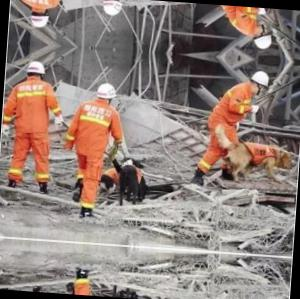helmet: (250, 70, 272, 96), (253, 26, 275, 52), (96, 82, 119, 106), (27, 60, 48, 82), (31, 8, 52, 30), (101, 1, 125, 19)
